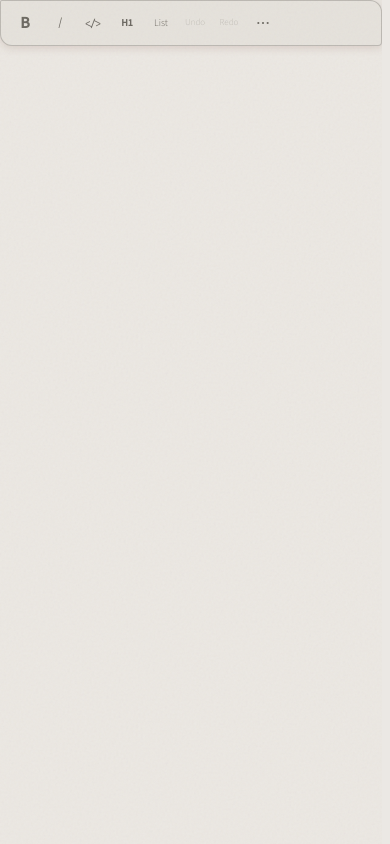
Test: EditorToolbar › makes the complete command model mouse-reachable from overflow
The image size is (390, 844).
Click the button named "More editor commands": (263, 23) [247, 7, 279, 39]
(page scrolled)
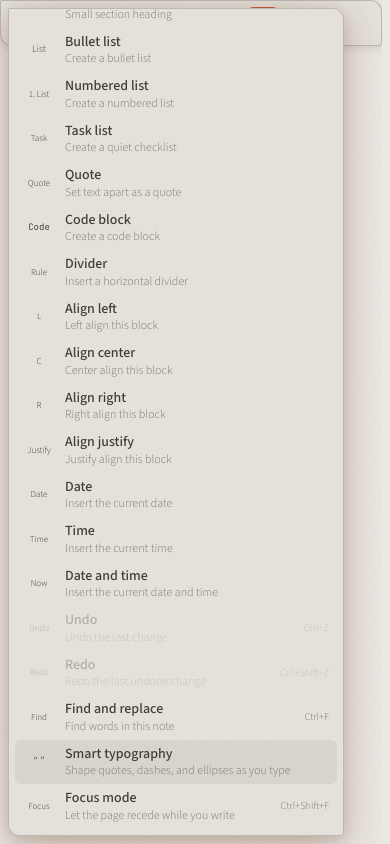
Expected: the menu item "C Align center Center align this block" is shown, [15, 339, 337, 384]
